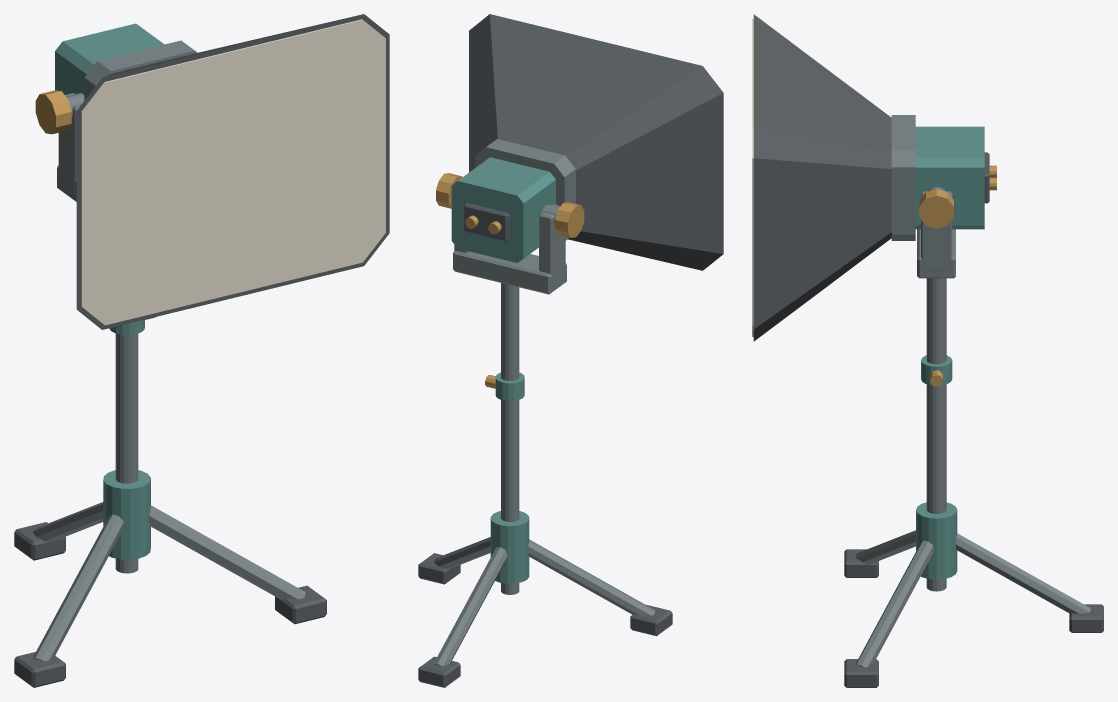
3 views of the same model, side by side, from view 1: azimuth 30°, elevation 25°; view 2: azimuth 150°, elevation 25°; view 3: azimuth 270°, elevation 25° (orthographic). The views are drawn at different scales.
Visible parts, largest first — view 1: Softbox_FrontDiffuser, Softbox_DeepHood, Stand_Mast, LampHead_Housing, Stand_TripodHub, Stand_Leg_RightFront, Stand_Leg_LeftFront, Softbox_RearCollar, Stand_Leg_Rear, Stand_Foot_LeftFront, Yoke_FixedTiltLock_Left, Stand_Foot_RightFront (+2 smaller); view 2: Softbox_DeepHood, LampHead_Housing, Stand_Mast, Yoke_BottomBridge, Softbox_RearCollar, Stand_TripodHub, Stand_Leg_LeftFront, Stand_Leg_Rear, Yoke_Arm_Left, LampHead_RearControlPanel, Stand_Foot_Rear, Yoke_FixedTiltLock_Left (+5 smaller); view 3: Softbox_DeepHood, LampHead_Housing, Stand_Mast, Softbox_RearCollar, Stand_TripodHub, Stand_Leg_Rear, Stand_Leg_RightFront, Yoke_Arm_Right, Yoke_FixedTiltLock_Right, Stand_Leg_LeftFront, Stand_Foot_RightFront, Stand_Foot_Rear (+4 smaller).
Part boxes in pixels (left/top/right/bottom): Softbox_FrontDiffuser: left=81, top=19, right=385, bottom=325; Softbox_DeepHood: left=76, top=14, right=389, bottom=329; Stand_Mast: left=115, top=333, right=138, bottom=573; LampHead_Housing: left=55, top=23, right=164, bottom=94; Stand_TripodHub: left=103, top=470, right=150, bottom=559; Stand_Leg_RightFront: left=149, top=505, right=305, bottom=599; Stand_Leg_LeftFront: left=33, top=514, right=123, bottom=661; Softbox_RearCollar: left=84, top=40, right=197, bottom=100; Stand_Leg_Rear: left=32, top=502, right=103, bottom=542; Stand_Foot_LeftFront: left=14, top=652, right=65, bottom=687; Yoke_FixedTiltLock_Left: left=35, top=90, right=71, bottom=134; Stand_Foot_RightFront: left=275, top=585, right=326, bottom=624; Softbox_DeepHood: left=469, top=14, right=723, bottom=270; LampHead_Housing: left=451, top=157, right=555, bottom=262; Stand_Mast: left=501, top=283, right=519, bottom=594; Yoke_BottomBridge: left=453, top=251, right=566, bottom=294; Softbox_RearCollar: left=475, top=139, right=575, bottom=240; Stand_TripodHub: left=490, top=511, right=529, bottom=583; Stand_Leg_LeftFront: left=528, top=539, right=655, bottom=615; Stand_Leg_Rear: left=433, top=547, right=507, bottom=666; Yoke_Arm_Left: left=539, top=204, right=565, bottom=285; LampHead_RearControlPanel: left=464, top=203, right=509, bottom=241; Stand_Foot_Rear: left=418, top=656, right=460, bottom=687; Yoke_FixedTiltLock_Left: left=555, top=202, right=584, bottom=237; Softbox_DeepHood: left=753, top=14, right=891, bottom=341; LampHead_Housing: left=915, top=126, right=984, bottom=229; Stand_Mast: left=926, top=278, right=946, bottom=591; Softbox_RearCollar: left=891, top=115, right=915, bottom=240; Stand_TripodHub: left=916, top=502, right=957, bottom=579; Stand_Leg_Rear: left=955, top=533, right=1090, bottom=613; Stand_Leg_RightFront: left=855, top=540, right=933, bottom=667; Yoke_Arm_Right: left=921, top=191, right=952, bottom=271; Yoke_FixedTiltLock_Right: left=919, top=189, right=953, bottom=228; Stand_Leg_LeftFront: left=855, top=530, right=915, bottom=564; Stand_Foot_RightFront: left=844, top=659, right=878, bottom=687; Stand_Foot_Rear: left=1069, top=604, right=1103, bottom=632.
Size of the model in its own units: 1.04 by 2.05 by 1.17.
